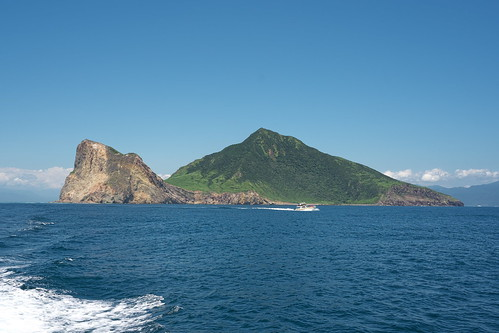turtleIslandLeft: (61, 124, 467, 208)
